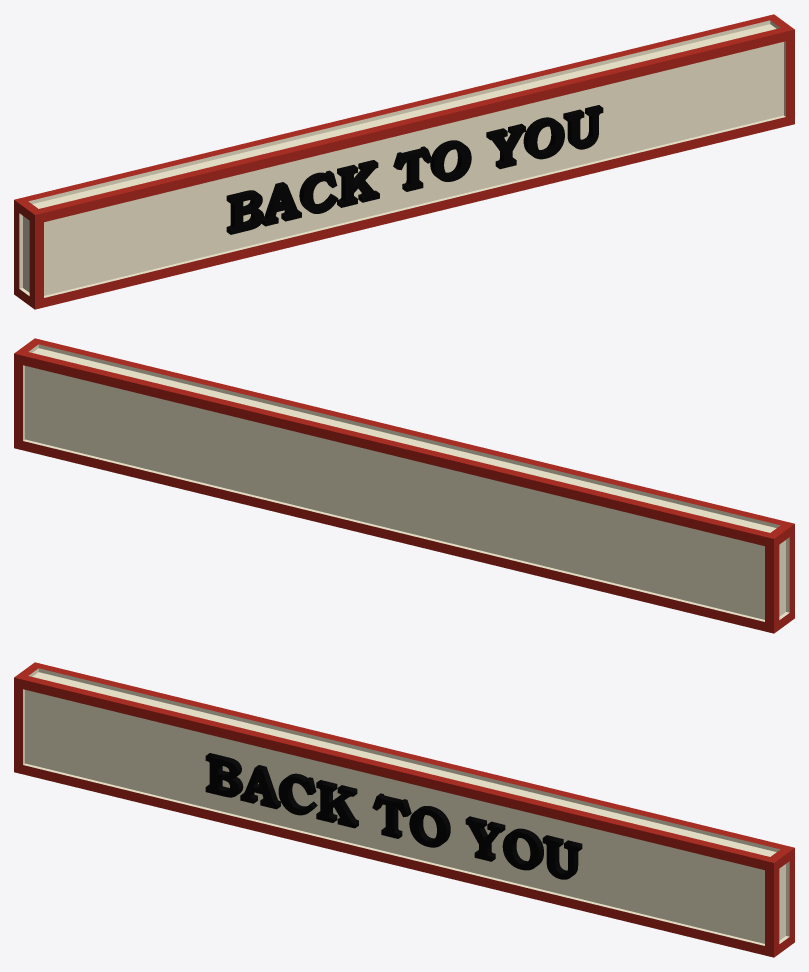
Rendered from backToYou.glb.
3 renders of one model, top to bottom at view 1: azimuth 30°, elevation 25°; view 2: azimuth 150°, elevation 25°; view 3: azimuth 330°, elevation 25°, orthographic.
Visible parts, largest first — view 1: Button.007, Text.006; view 2: Button.007; view 3: Button.007, Text.006.
Part boxes in pixels (x1=…): Button.007: x1=14, y1=14, x2=794, y2=309; Text.006: x1=226, y1=105, x2=603, y2=234; Button.007: x1=14, y1=338, x2=794, y2=633; Button.007: x1=14, y1=662, x2=794, y2=957; Text.006: x1=205, y1=753, x2=582, y2=879.
Bounding box in the file's own units: 10.5 × 1.25 × 0.5499.
